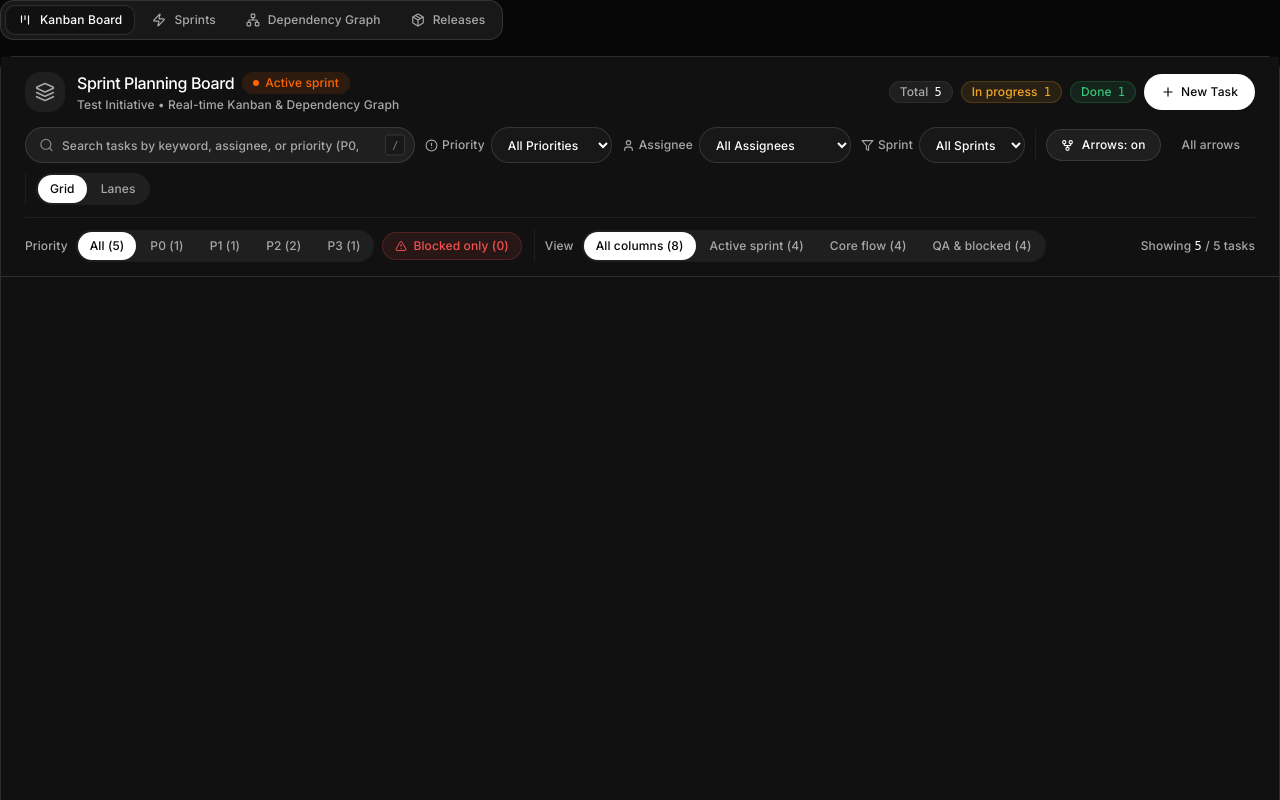
it: KanbanTab Search and Filter › filters tasks by assignee dropdown
# Select BACKEND AGENT
Select "BACKEND Agent" in the dropdown named "filter by assignee" at (775, 145), box [699, 127, 851, 163]
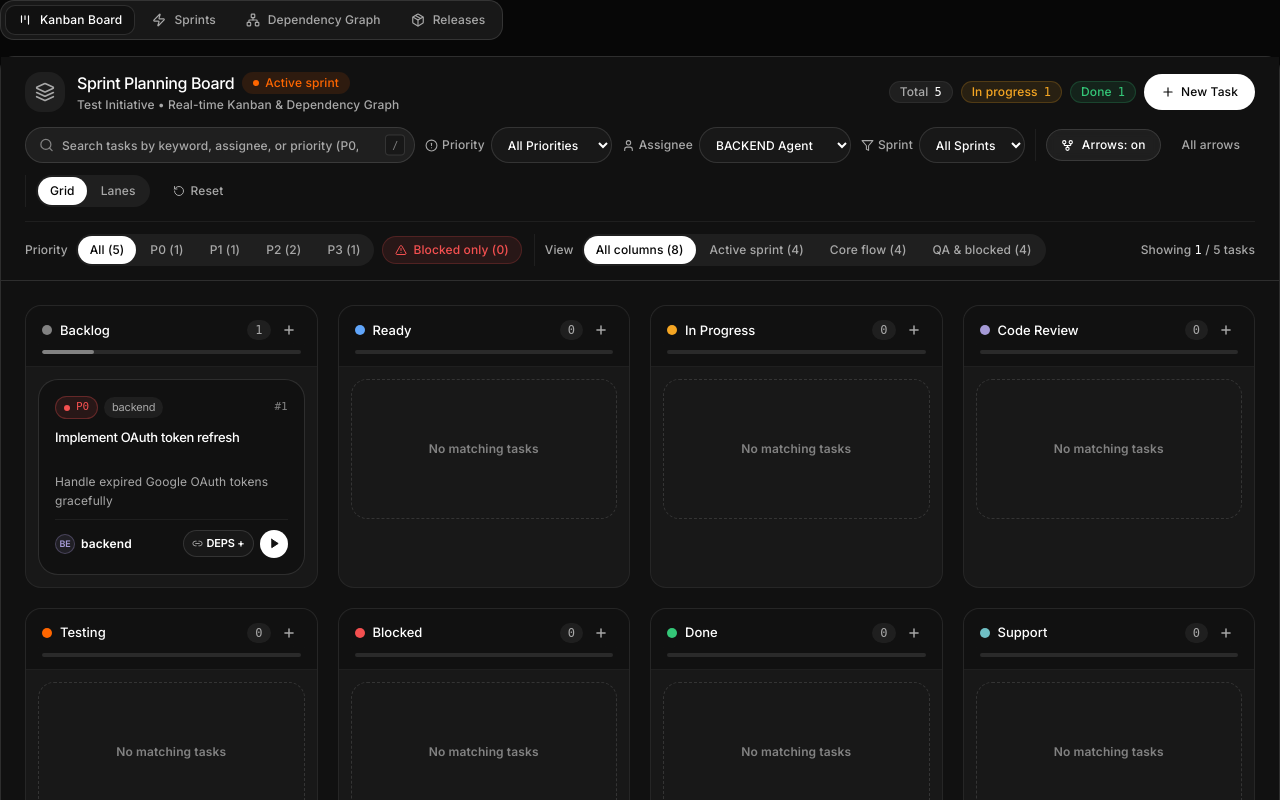
expect the text "Implement OAuth token refresh" is shown: met, box [55, 429, 239, 445]
